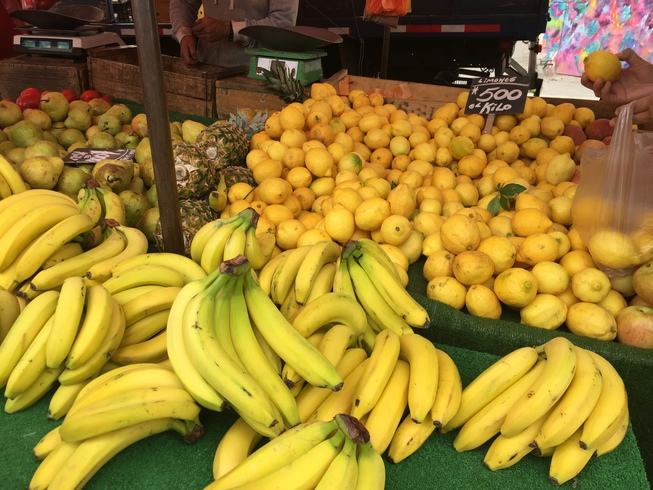precio: (465, 70, 532, 124), (60, 144, 139, 173)
